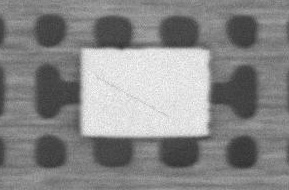DIE_CRACK: (148, 51, 252, 76)
